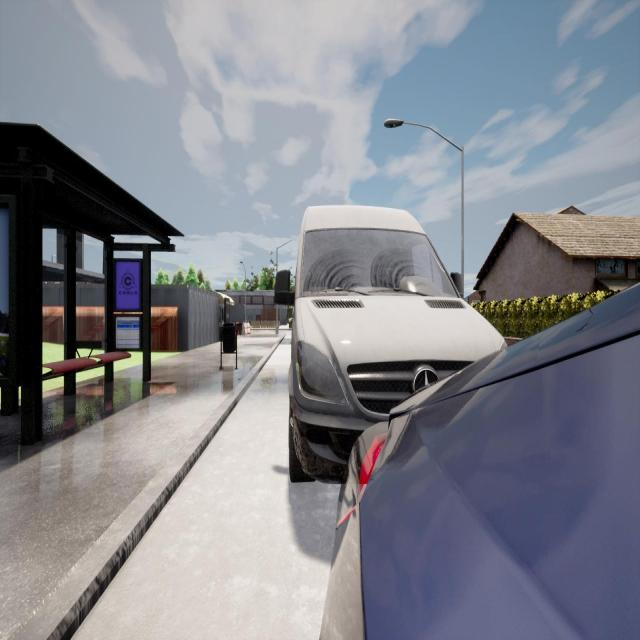Vehicle: (320, 285, 640, 638), (274, 205, 507, 482)
